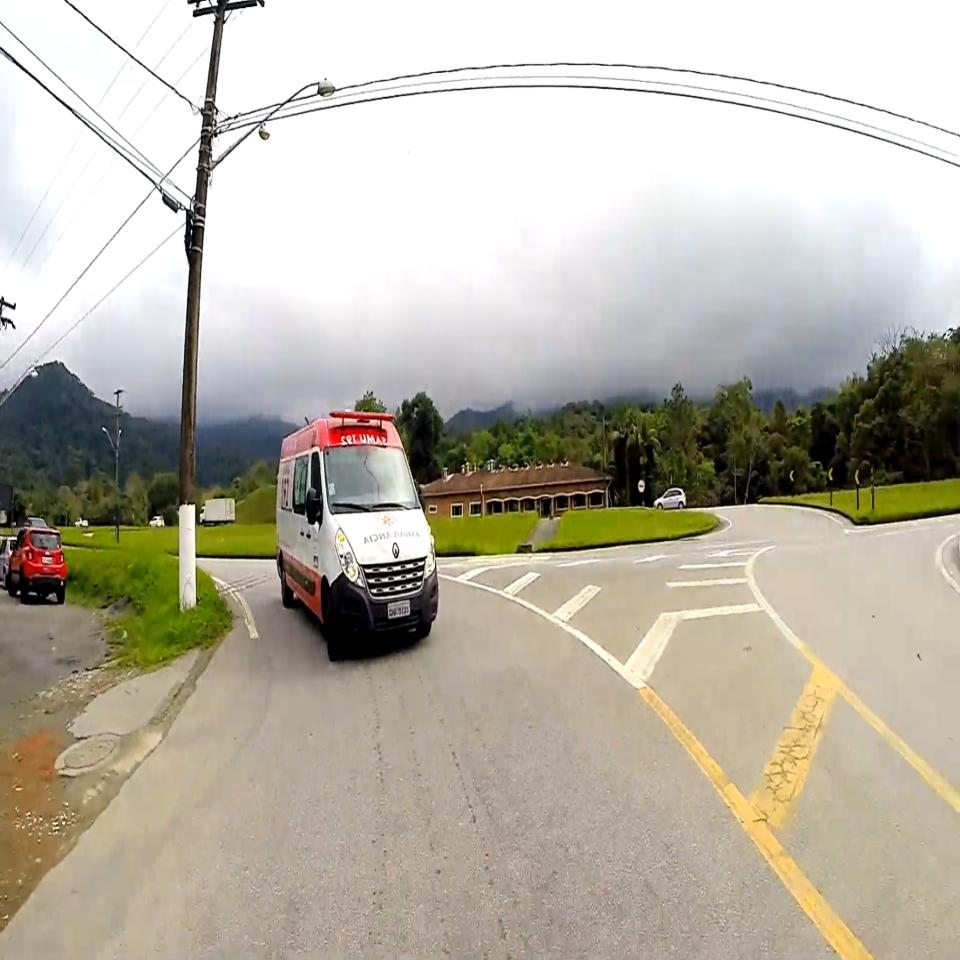bombeiro: (271, 402, 443, 670)
